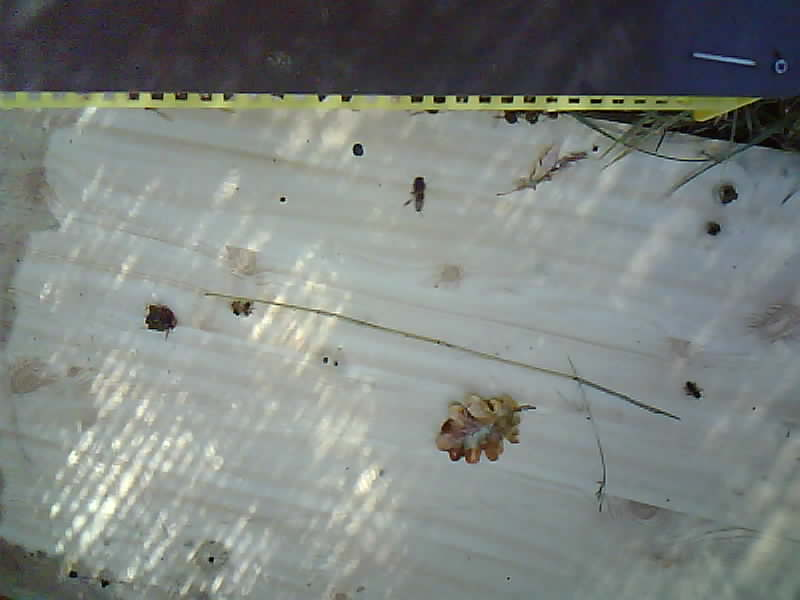bee: (410, 174, 428, 211)
